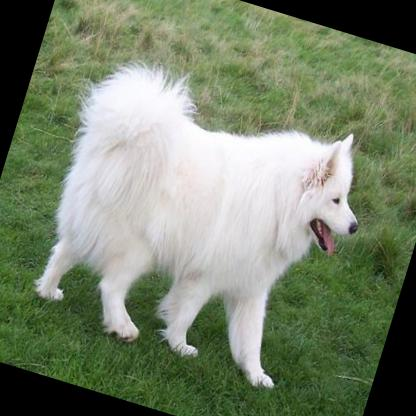Samoyed: (19, 48, 385, 399)
